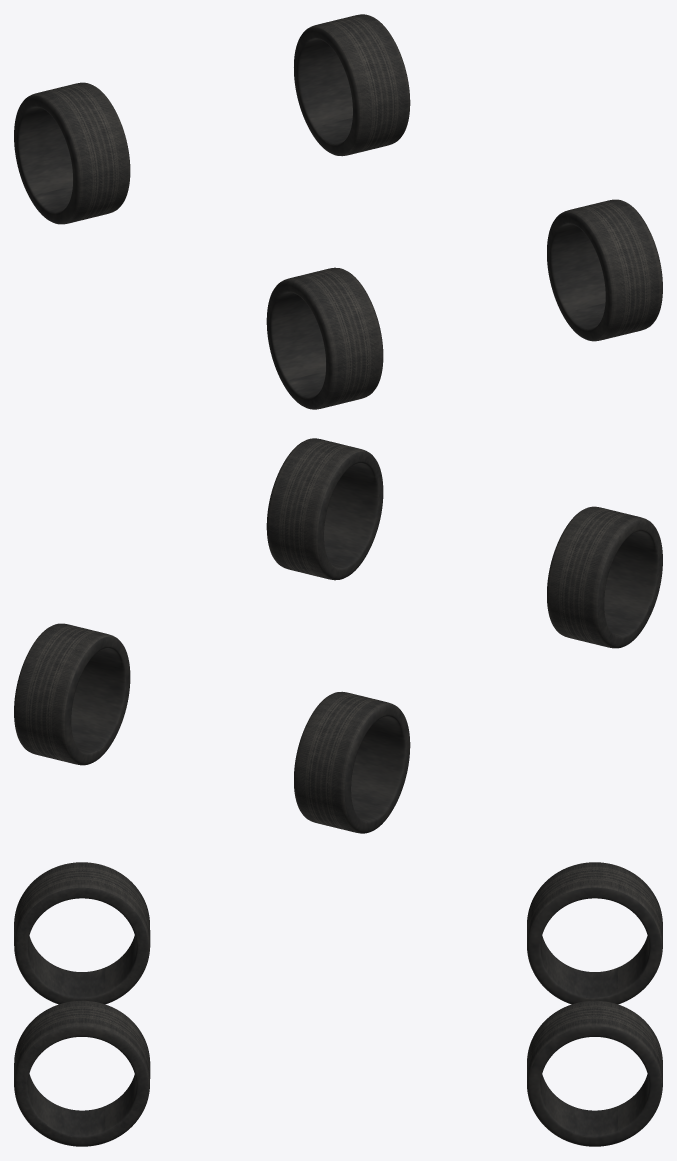
The model's file is Opony.glb.
3 renders of one model, top to bottom at view 1: azimuth 30°, elevation 25°; view 2: azimuth 150°, elevation 25°; view 3: azimuth 270°, elevation 25°, orthographic.
Visible parts, largest first — view 1: Opony_przod_material, Opony_tyl_material; view 2: Opony_przod_material, Opony_tyl_material; view 3: Opony_przod_material, Opony_tyl_material.
Boxes of the visible parts, x1,y1,x2,y2 form: Opony_przod_material: (266,199,662,409); Opony_tyl_material: (14,14,410,224); Opony_przod_material: (266,438,662,648); Opony_tyl_material: (14,623,410,833); Opony_przod_material: (14,862,150,1146); Opony_tyl_material: (527,862,662,1146).
Bounding box in the file's own units: 4.9 × 1.71 × 8.15.
1 material, 1 textured.
